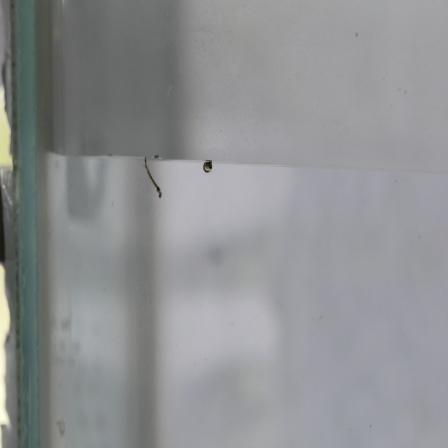Jentik-Nyamuk: (139, 154, 165, 203), (196, 155, 215, 179)
